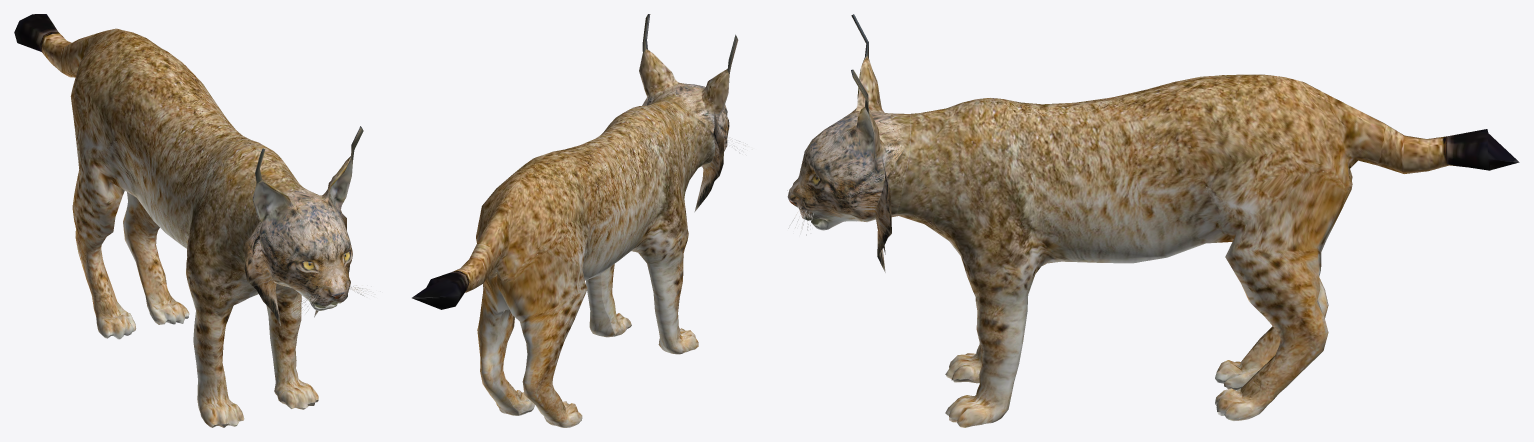
File: Iberian_Lynx.fbx
3 views of the same model, side by side, from view 1: azimuth 30°, elevation 25°; view 2: azimuth 150°, elevation 25°; view 3: azimuth 270°, elevation 25° (orthographic). The views are drawn at different scales.
Visible parts, largest first — view 1: Iberian_Lynx; view 2: Iberian_Lynx; view 3: Iberian_Lynx.
Part boxes in pixels (x1=…): Iberian_Lynx: x1=14, y1=14, x2=379, y2=427; Iberian_Lynx: x1=412, y1=14, x2=753, y2=427; Iberian_Lynx: x1=787, y1=14, x2=1519, y2=427.
Bounding box in the file's own units: 2693 × 7352 × 13620.
1 material, 1 textured.
